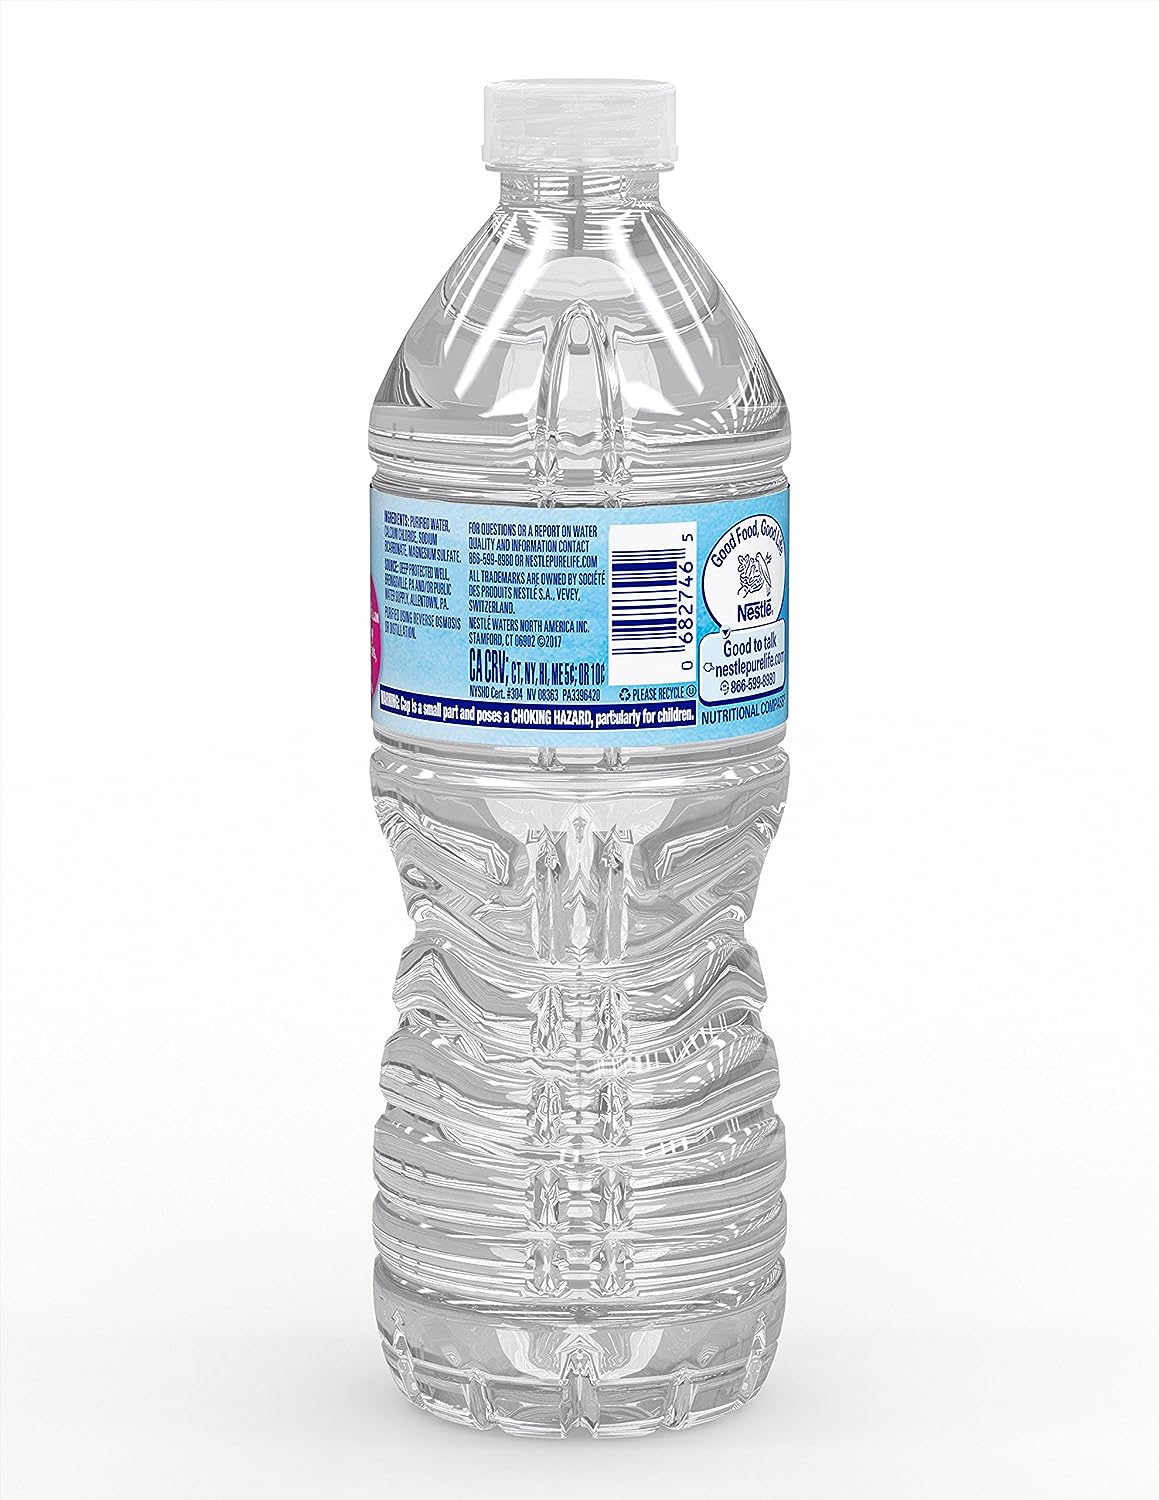bottle: (363, 79, 782, 1427)
